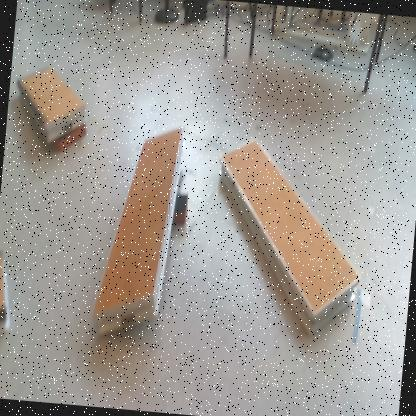Stairs: (220, 139, 362, 342), (91, 127, 186, 340), (19, 66, 89, 144), (1, 252, 11, 338)
